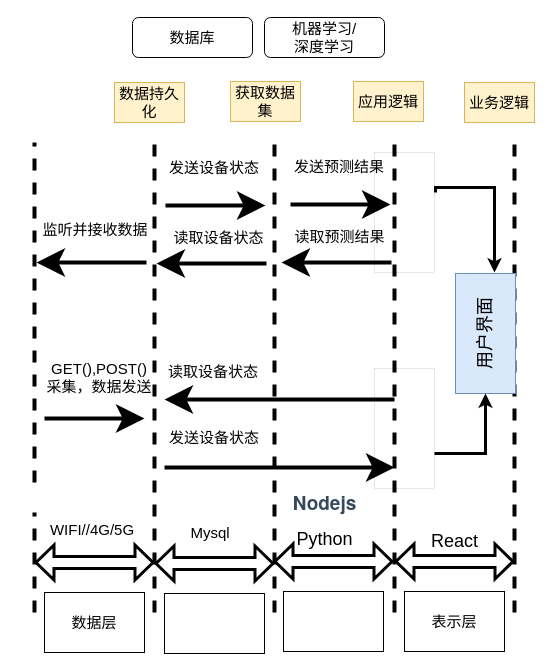
The diagram is 552 pixels wide and 671 high, and some of its shapes have lost their labels. The box of each missing label's shape, as (x1, y1, x2, y2) in pixels:
功能逻辑层: (282, 590, 384, 652)
数据处理层: (164, 592, 264, 654)
数据集: (374, 368, 434, 488)
获得预测结果: (374, 152, 434, 272)
